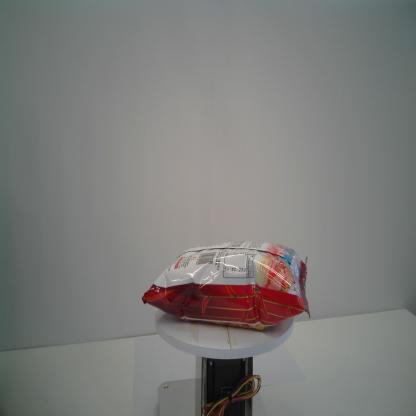Puffed Food: (142, 240, 312, 331)
